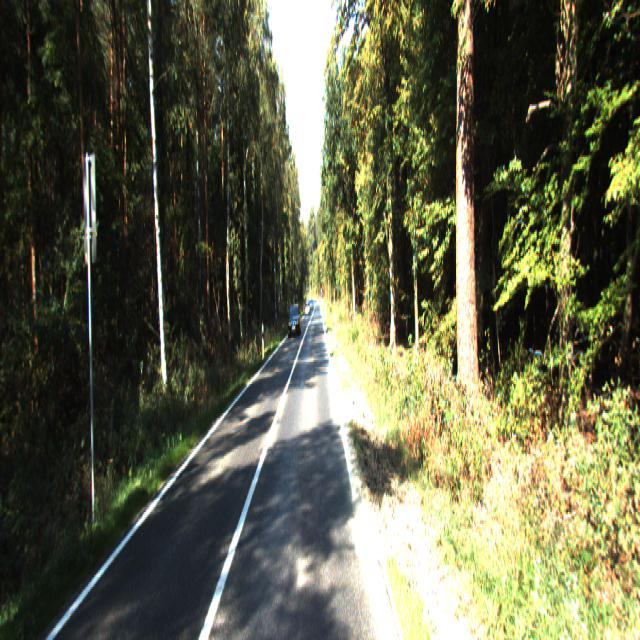Car: (287, 304, 301, 339)
